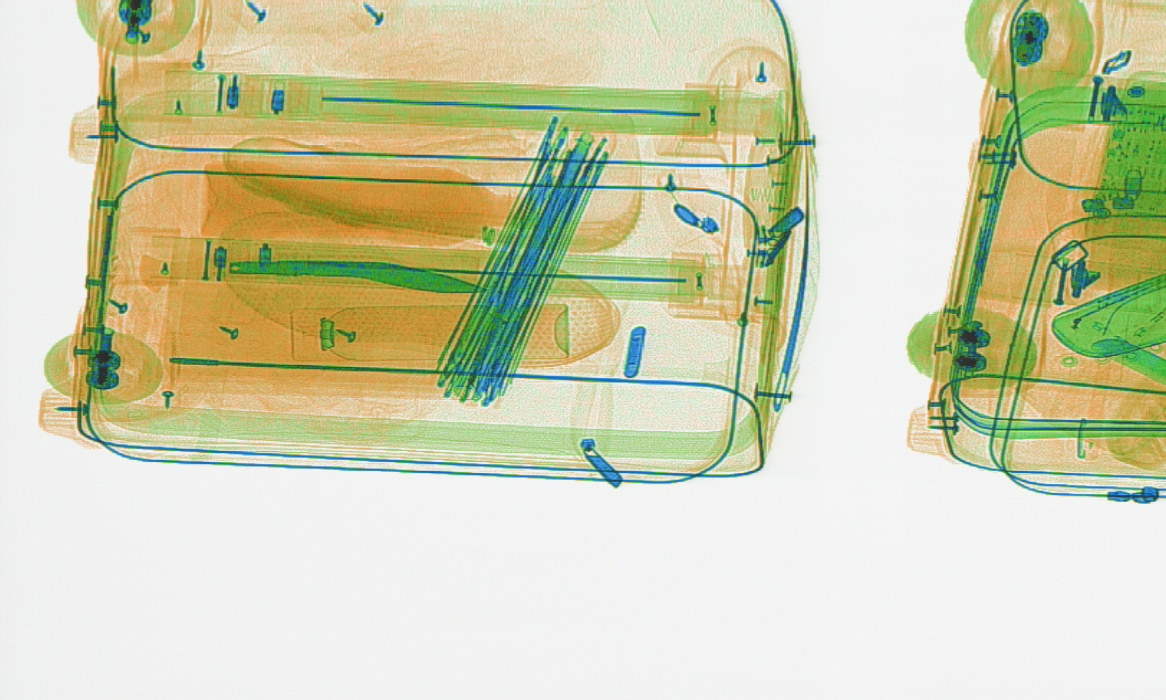knife: (137, 250, 489, 295)
pressure: (287, 300, 570, 363)
